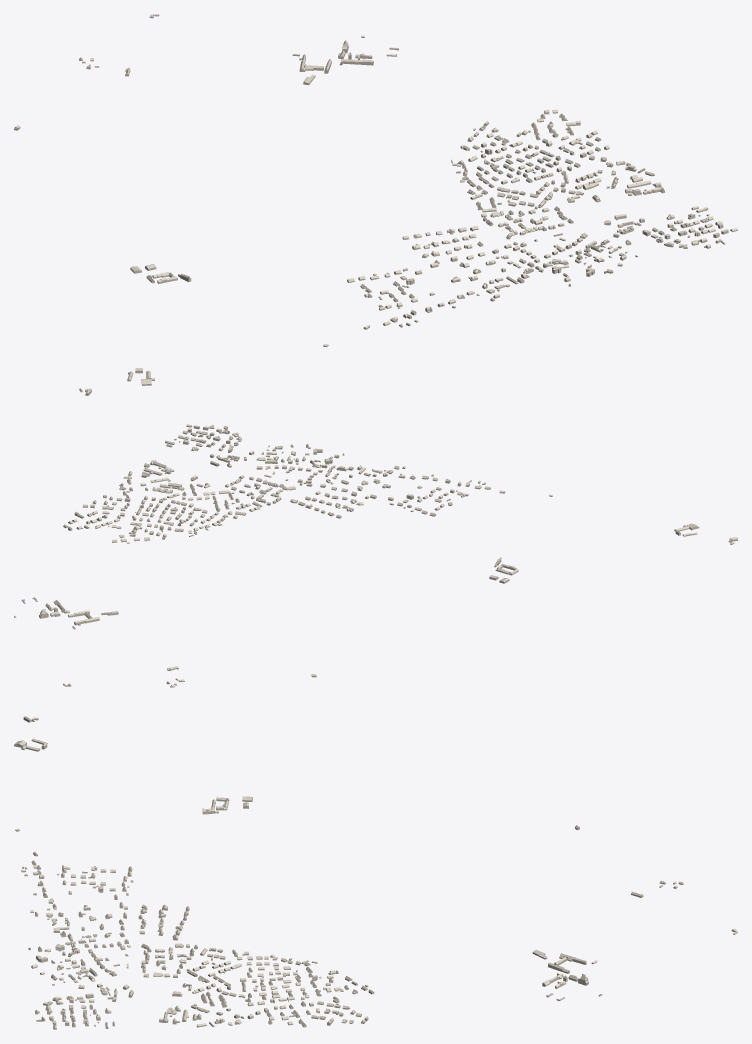
The picture shows the model from 3 angles, top to bottom: view 1: azimuth 30°, elevation 25°; view 2: azimuth 150°, elevation 25°; view 3: azimuth 270°, elevation 25°; orthographic projection. The views are drawn at different scales.
Bounding box in the file's own units: 1704 × 39.07 × 1723.
